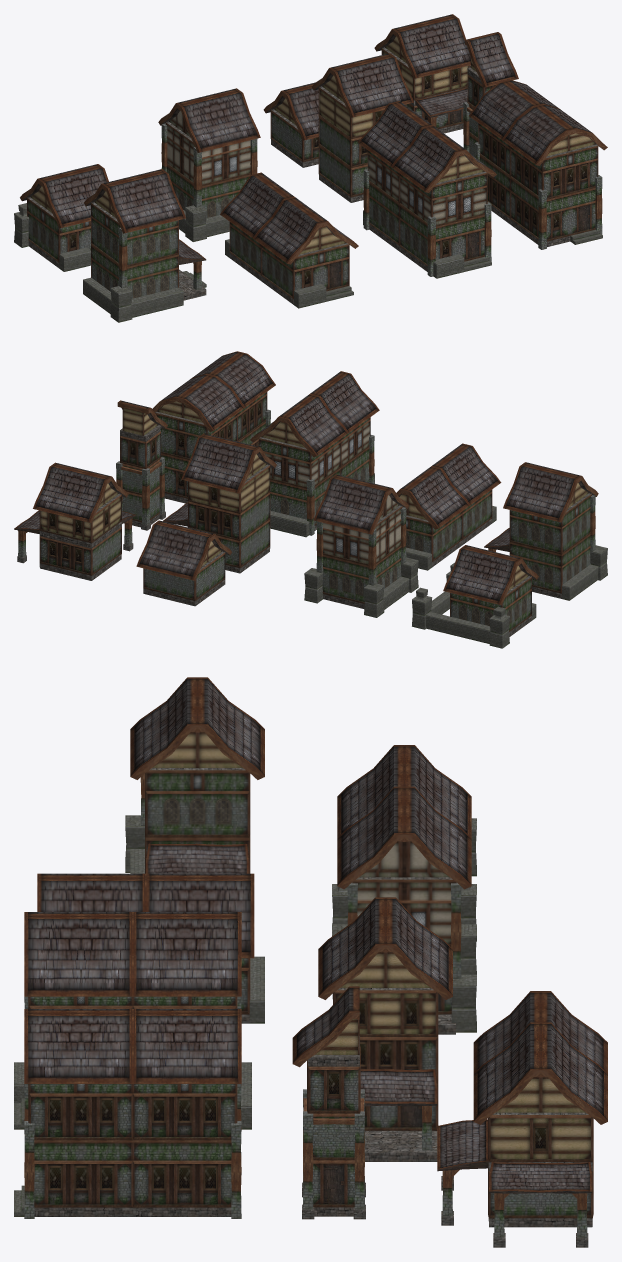
Rendered from medieval_houses.gltf.
3 renders of one model, top to bottom at view 1: azimuth 30°, elevation 25°; view 2: azimuth 150°, elevation 25°; view 3: azimuth 270°, elevation 25°, orthographic. The views are drawn at different scales.
Visible parts, largest first — view 1: MVK_House_10, MVK_House_09, MVK_House_07, MVK_House_08, MVK_House_06, MVK_House_03, MVK_House_02, MVK_House_05, MVK_House_01, MVK_House_04; view 2: MVK_House_10, MVK_House_06, MVK_House_07, MVK_House_02, MVK_House_03, MVK_House_09, MVK_House_05, MVK_House_08, MVK_House_01, MVK_House_04; view 3: MVK_House_09, MVK_House_02, MVK_House_03, MVK_House_10, MVK_House_07, MVK_House_06, MVK_House_04, MVK_House_08, MVK_House_05, MVK_House_01.
Part boxes in pixels (bbox=[...]): MVK_House_10: bbox=[358, 101, 496, 278]; MVK_House_09: bbox=[469, 79, 607, 249]; MVK_House_07: bbox=[83, 169, 206, 322]; MVK_House_08: bbox=[220, 172, 358, 308]; MVK_House_06: bbox=[158, 88, 260, 241]; MVK_House_03: bbox=[312, 53, 413, 202]; MVK_House_02: bbox=[374, 14, 470, 133]; MVK_House_05: bbox=[14, 164, 108, 271]; MVK_House_01: bbox=[263, 82, 318, 167]; MVK_House_04: bbox=[463, 32, 518, 156]; MVK_House_10: bbox=[250, 371, 379, 537]; MVK_House_06: bbox=[304, 474, 418, 617]; MVK_House_07: bbox=[484, 462, 607, 600]; MVK_House_02: bbox=[14, 462, 136, 580]; MVK_House_03: bbox=[163, 433, 276, 573]; MVK_House_09: bbox=[152, 351, 275, 503]; MVK_House_05: bbox=[412, 545, 538, 648]; MVK_House_08: bbox=[396, 443, 501, 570]; MVK_House_01: bbox=[136, 520, 231, 606]; MVK_House_04: bbox=[116, 400, 167, 530]; MVK_House_09: bbox=[14, 1009, 241, 1218]; MVK_House_02: bbox=[437, 1022, 607, 1247]; MVK_House_03: bbox=[318, 897, 452, 1161]; MVK_House_10: bbox=[14, 912, 251, 1131]; MVK_House_07: bbox=[125, 677, 264, 873]; MVK_House_06: bbox=[332, 786, 476, 1034]; MVK_House_04: bbox=[292, 986, 365, 1219]; MVK_House_08: bbox=[37, 873, 264, 1023]; MVK_House_05: bbox=[332, 745, 476, 941]; MVK_House_01: bbox=[473, 991, 607, 1073].
Bounding box in the file's own units: 35.44 × 8.8 × 22.97.
3 materials, 3 textured.
